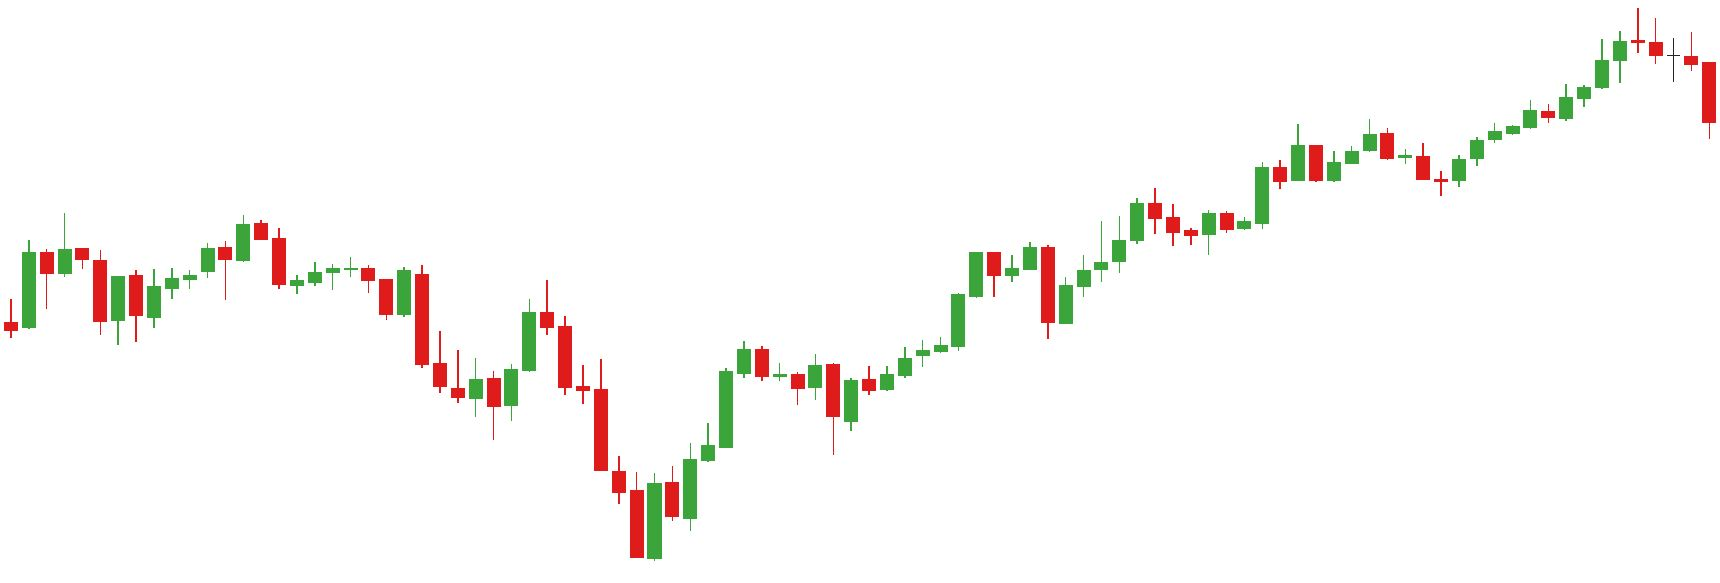sell: (433, 281, 555, 378)
